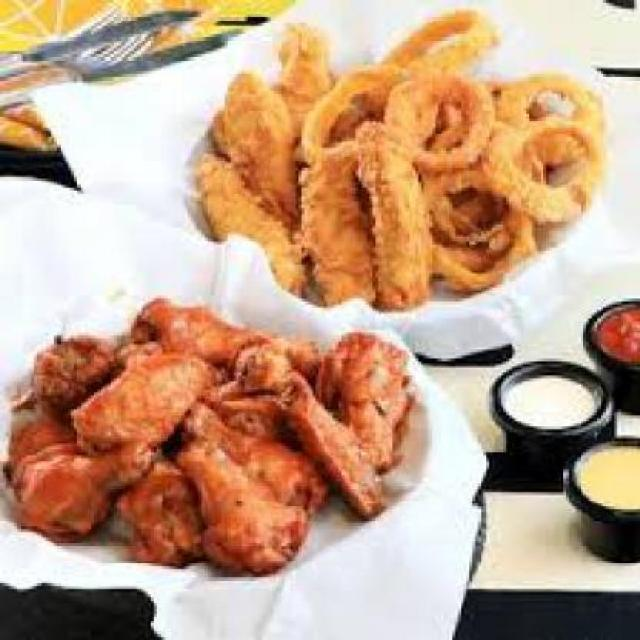chicken wings: (9, 273, 433, 592), (185, 20, 427, 292)
onion rings: (320, 5, 612, 293)
